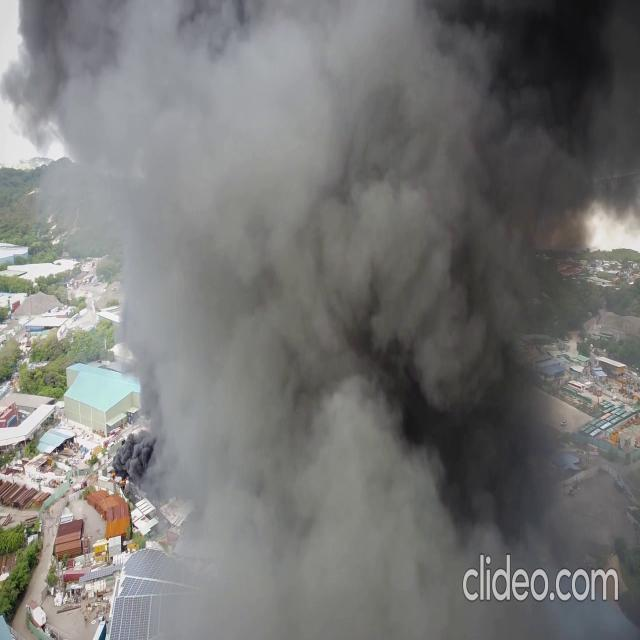Smoke: (2, 0, 637, 540)
